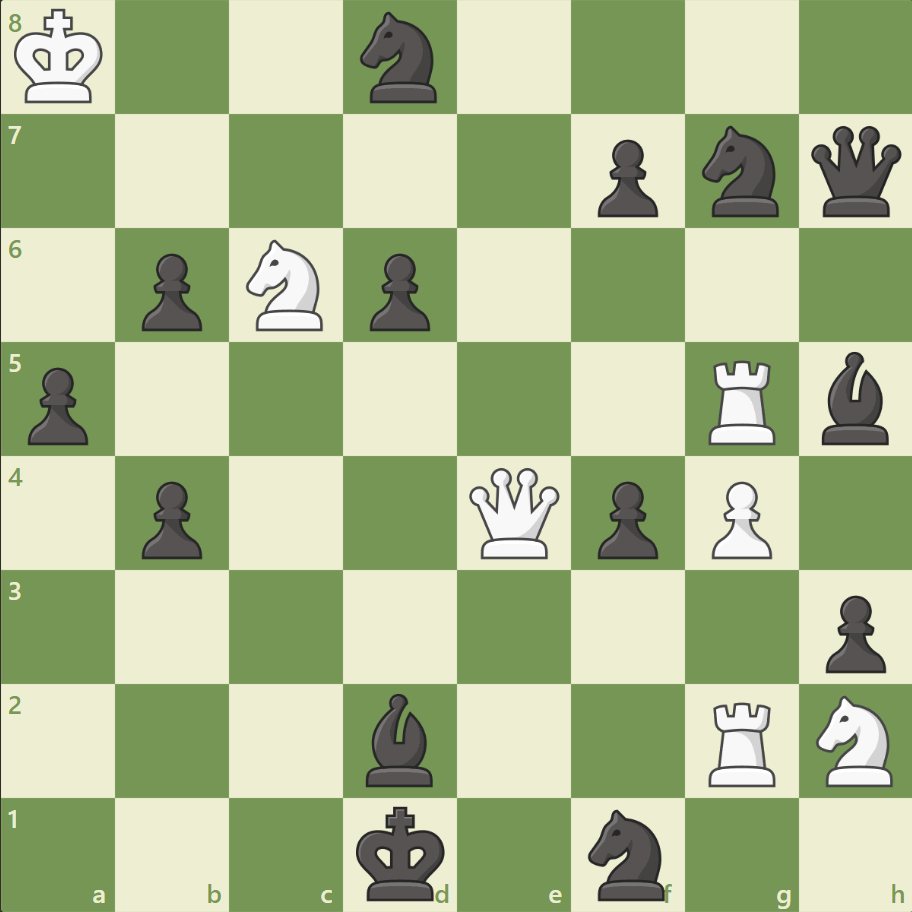K: (11, 4, 111, 112)
N: (238, 234, 335, 337), (806, 688, 903, 791)
P: (701, 473, 776, 564)
Q: (464, 463, 563, 562)
R: (700, 352, 783, 449), (700, 693, 783, 790)
b: (358, 687, 442, 790), (812, 347, 896, 449)
k: (351, 798, 451, 906)
n: (351, 7, 449, 110), (692, 121, 789, 223), (579, 802, 676, 904)
p: (133, 246, 208, 337), (20, 359, 95, 450), (133, 473, 208, 564), (588, 132, 662, 223), (361, 246, 435, 337), (588, 473, 662, 564), (815, 586, 889, 677)
q: (805, 122, 904, 222)
